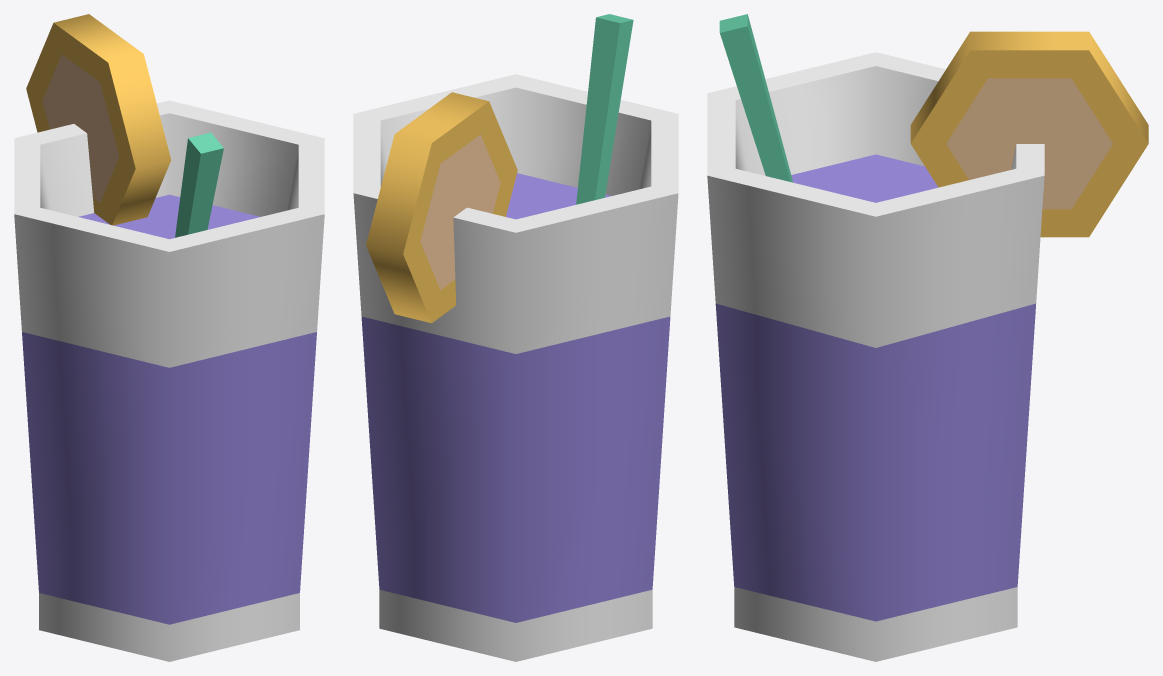
The model's file is sodaGlass.fbx.
3 renders of one model, left to right at view 1: azimuth 30°, elevation 25°; view 2: azimuth 150°, elevation 25°; view 3: azimuth 270°, elevation 25°, orthographic. The views are drawn at different scales.
Parts seen in each view (by area): view 1: sodaGlass, lemon, straw; view 2: sodaGlass, lemon, straw; view 3: sodaGlass, lemon, straw.
Part boxes in pixels (box(x1,y1,x2,y2)): sodaGlass: box(14, 100, 324, 661); lemon: box(26, 14, 170, 225); straw: box(175, 132, 223, 237); sodaGlass: box(353, 74, 678, 661); lemon: box(366, 92, 517, 323); straw: box(576, 14, 633, 204); sodaGlass: box(707, 52, 1044, 661); lemon: box(910, 31, 1148, 237); straw: box(719, 14, 793, 182).
Size of the model in its own units: 2.62 by 4.13 by 2.97.
